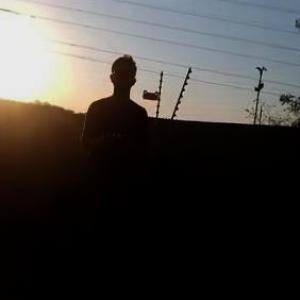follow: (74, 48, 154, 299)
